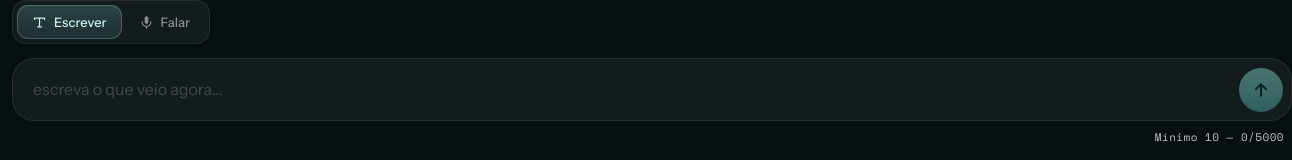
ChatComposer › quando o navegador é compatível com reconhecimento de voz › desabilita o botão de microfone enquanto uma resposta está em andamento
This screenshot has width=1292, height=160.
Click the button "Falar": click(164, 22) [124,5,205,39]
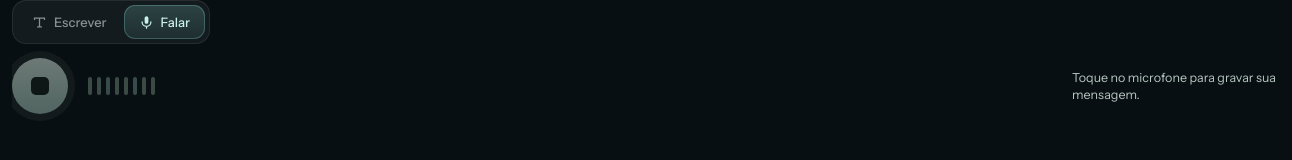
Expected: the button named "Iniciar gravação" is disabled, [12,58,68,114]
